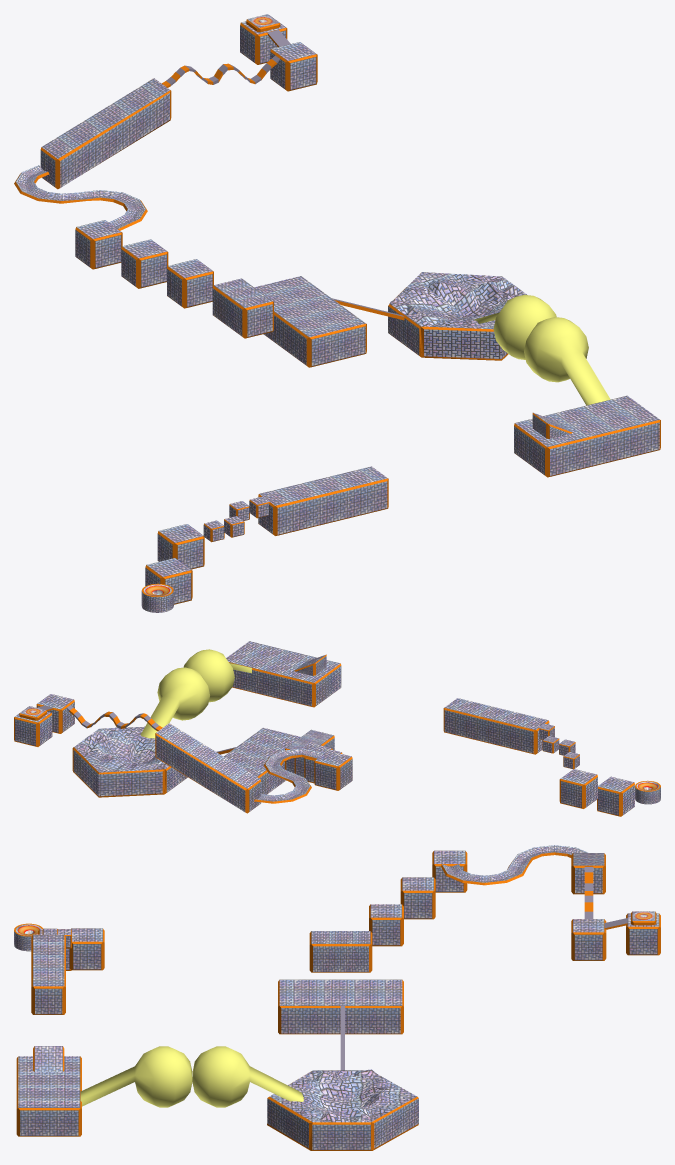
The model's file is Level32.fbx.
The picture shows the model from 3 angles, top to bottom: view 1: azimuth 30°, elevation 25°; view 2: azimuth 150°, elevation 25°; view 3: azimuth 270°, elevation 25°; orthographic projection. The views are drawn at different scales.
Visible parts, largest first — view 1: Level32; view 2: Level32; view 3: Level32.
Part boxes in pixels (x1,y1,x2,y2): Level32: (14, 14, 660, 612); Level32: (14, 641, 660, 816); Level32: (14, 845, 660, 1150).
Bounding box in the file's own units: 5599 × 2471 × 6145.
11 materials, 7 textured.
